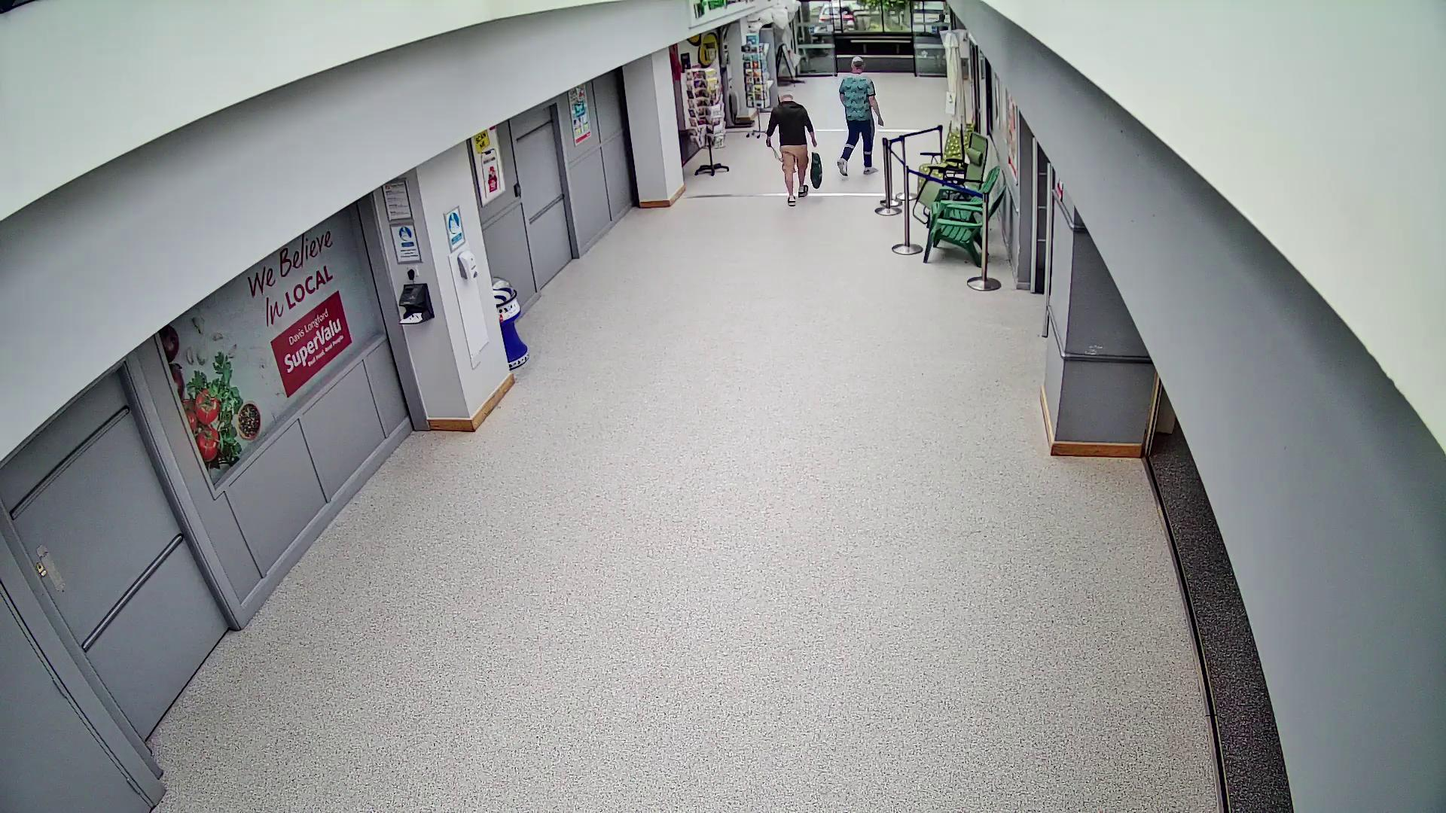filled-shopping-bags: (811, 152, 823, 190)
person: (766, 91, 817, 208)
person-with-filled-shopping-bag-s-: (766, 92, 822, 206)
